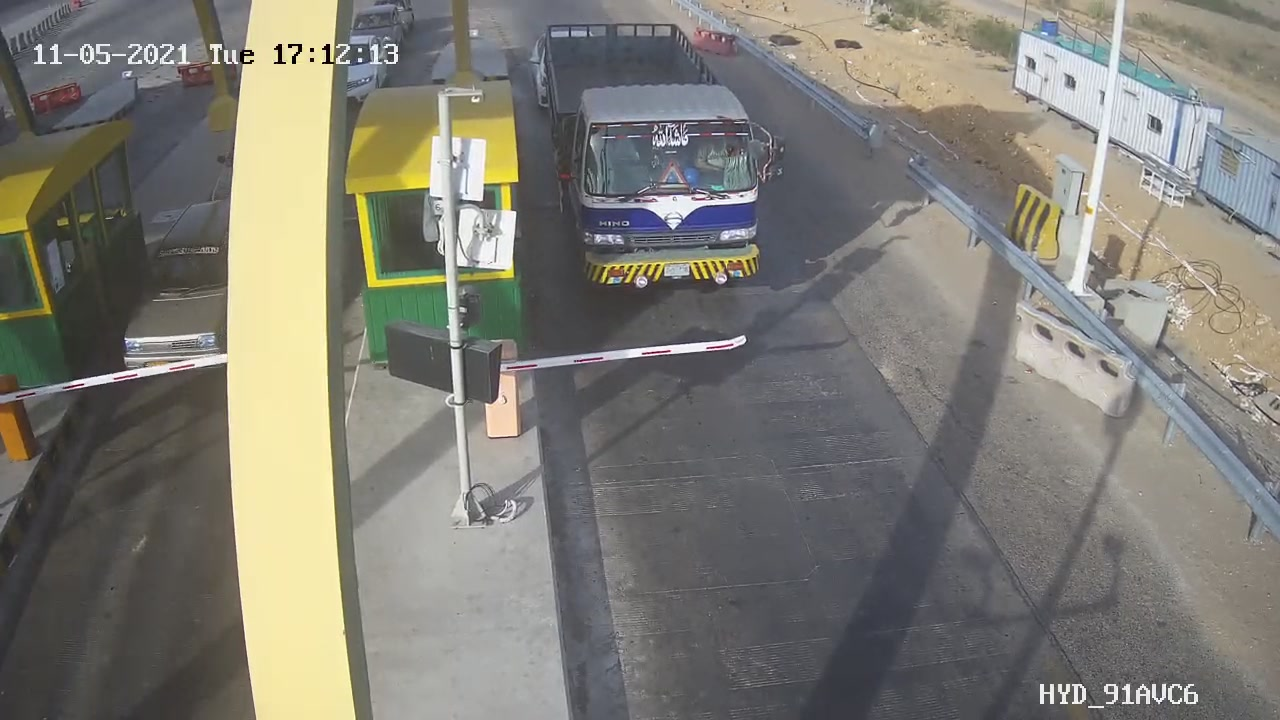F5: (520, 7, 804, 317)
